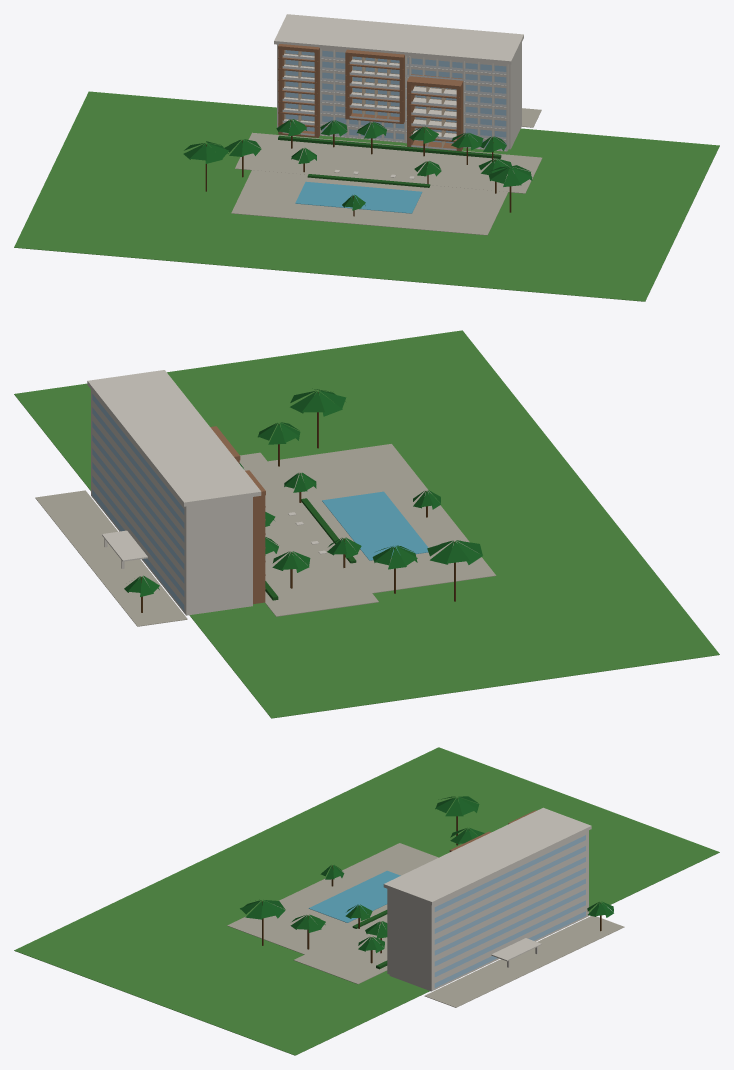
Rendered from embassysuites.glb.
3 views of the same model, one above another, from view 1: azimuth 30°, elevation 25°; view 2: azimuth 150°, elevation 25°; view 3: azimuth 270°, elevation 25° (orthographic). The views are drawn at different scales.
Parts seen in each view (by area): view 1: embassysuites_lod0; view 2: embassysuites_lod0; view 3: embassysuites_lod0.
Part boxes in pixels (x1,y1,x2,y2): embassysuites_lod0: [14, 14, 719, 301]; embassysuites_lod0: [14, 330, 719, 718]; embassysuites_lod0: [14, 747, 719, 1055].
Size of what is drawn, in the model's own units: 253 by 35.1 by 245.
